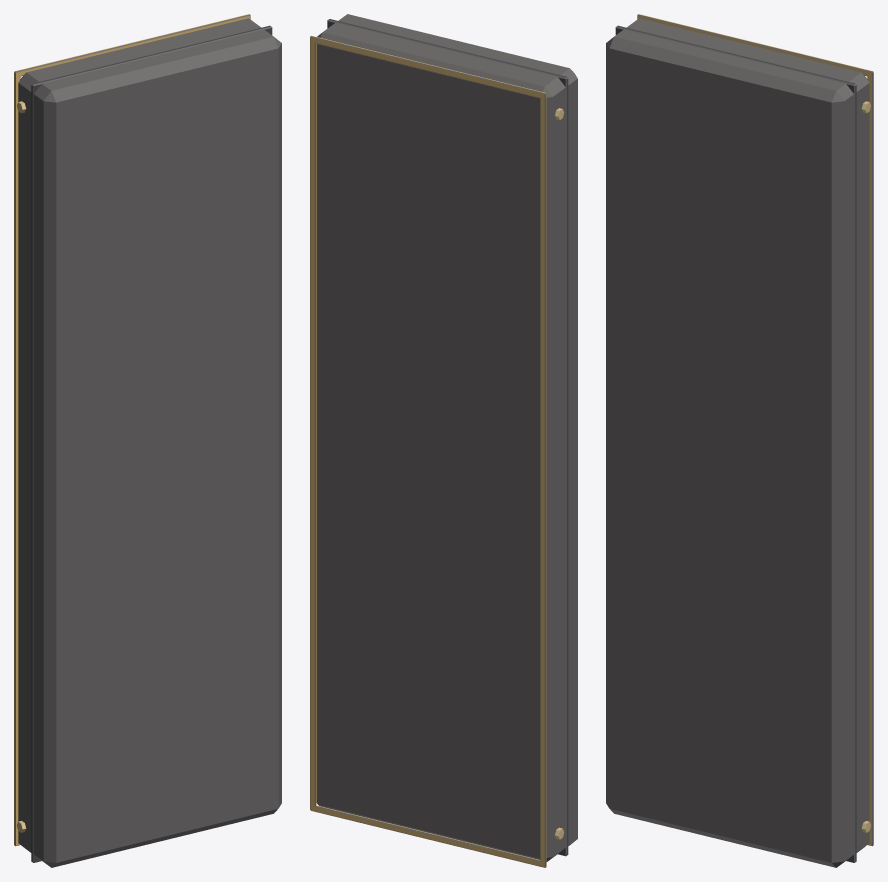
Rendered from Housing_1x3.fbx.
The picture shows the model from 3 angles, left to right: view 1: azimuth 30°, elevation 25°; view 2: azimuth 150°, elevation 25°; view 3: azimuth 330°, elevation 25°; orthographic projection.
Visible parts, largest first — view 1: Housing_1x3; view 2: Housing_1x3; view 3: Housing_1x3.
Boxes of the visible parts, <box> form: Housing_1x3: <box>14,14,281,867</box>; Housing_1x3: <box>310,14,577,867</box>; Housing_1x3: <box>606,14,873,867</box>.
Size of the model in its own units: 1.07 by 3.25 by 0.27.
